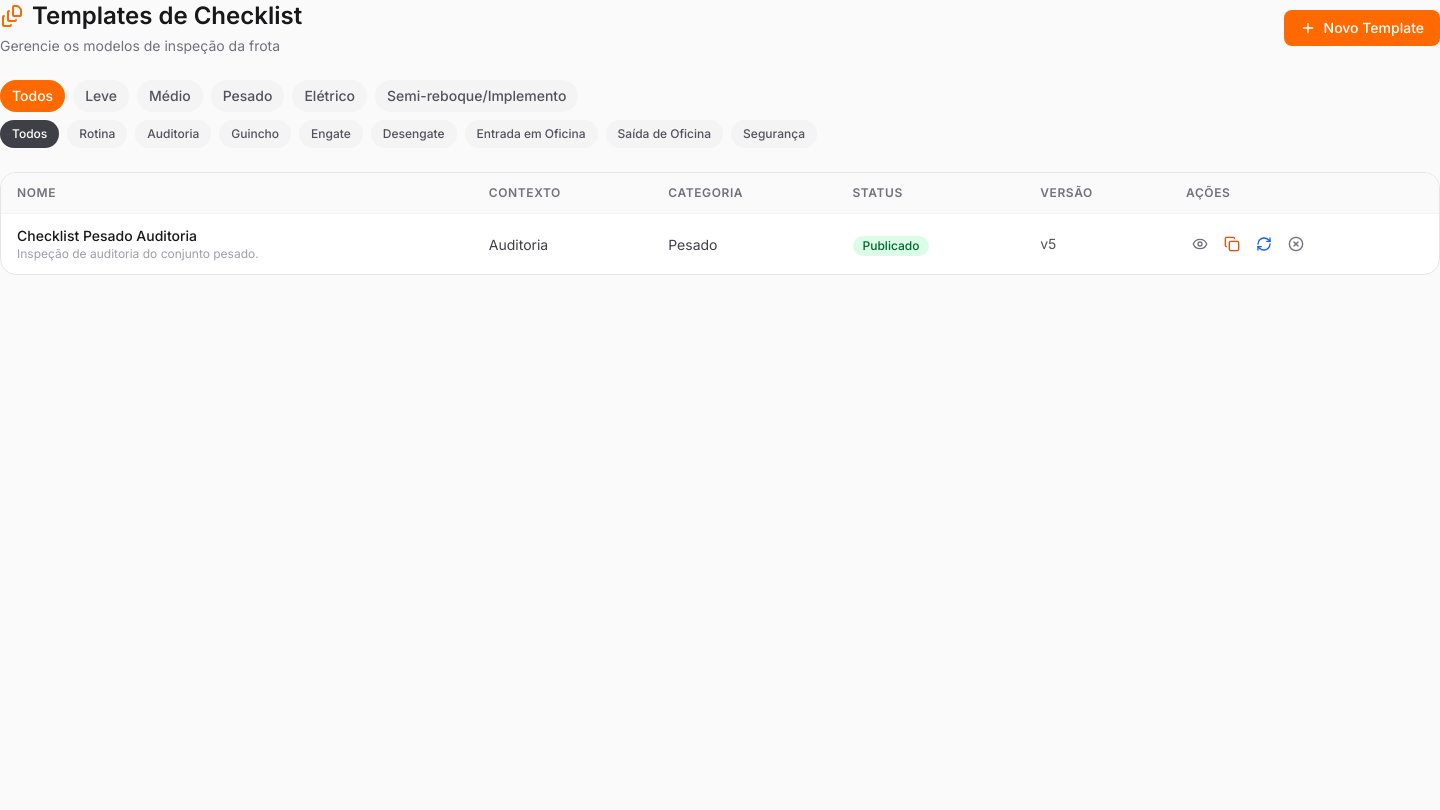
ChecklistTemplates.detailModal › Manager abre o detalhe da linha publicada e o dialog exibe Freios dianteiros e Publicado, sem controles de escrita no dialog
Expected: the row that starts with "Checklist Pesado Auditoria" is shown, [1,214,1439,274]
Click the button titled "Visualizar": (1200, 244) [1186,230,1214,258]
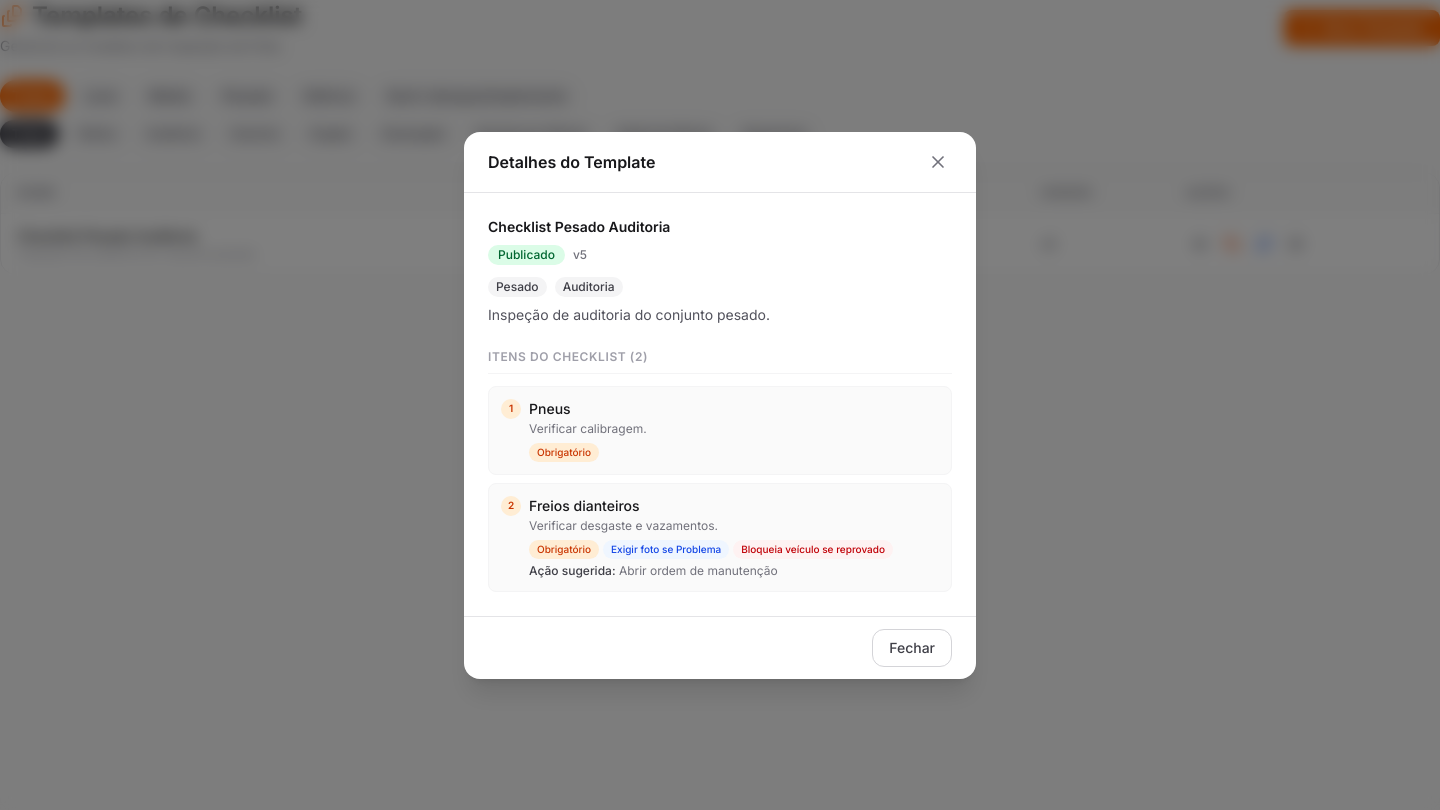
Now the dialog shows "Detalhes do Template", box [488,152,656,172]
Now the dialog shows "Freios dianteiros", box [529,496,640,514]
Now the dialog shows "Publicado", box [498,246,555,262]
